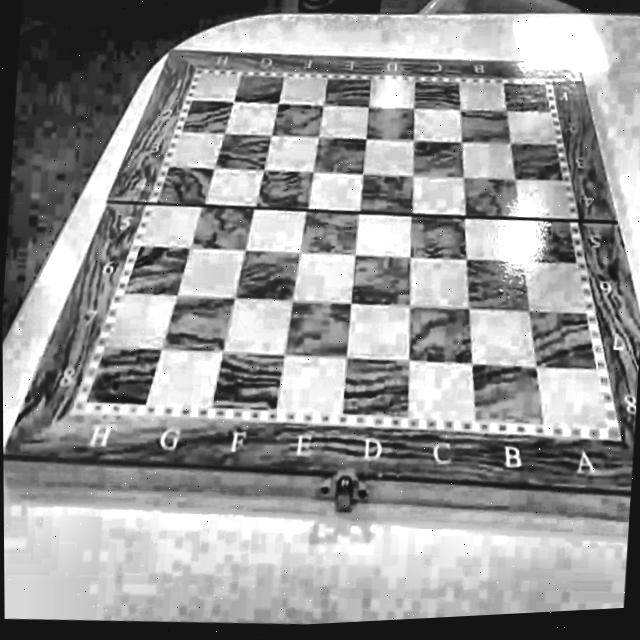chessboard: (69, 67, 620, 441)
p1: (540, 80, 549, 91)
p2: (597, 414, 610, 429)
p3: (86, 390, 96, 405)
p4: (198, 70, 205, 78)
